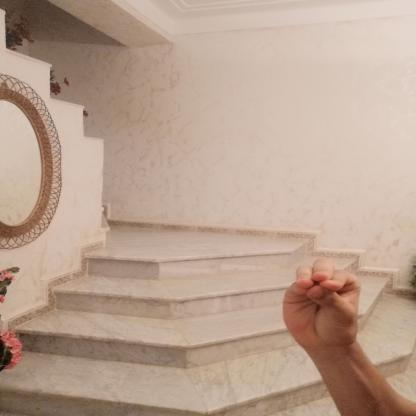HA: (262, 250, 382, 363)
